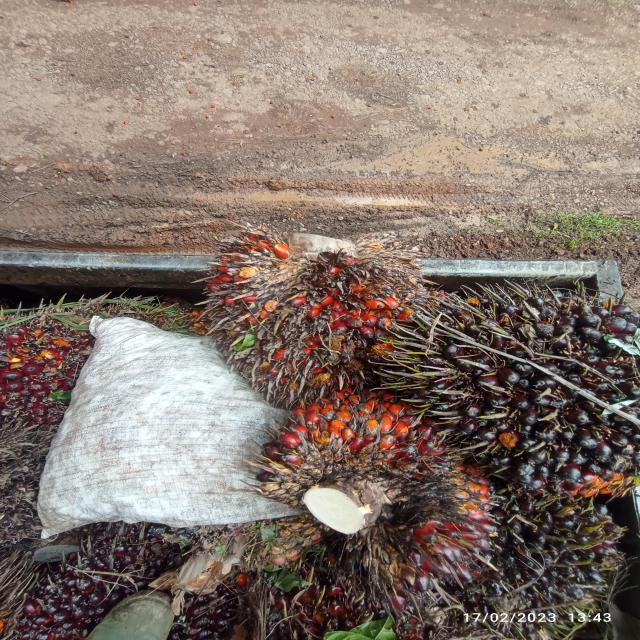fraksi 00: (387, 272, 640, 495), (474, 477, 631, 636)
fraksi 3: (189, 199, 442, 426), (260, 374, 507, 590)
